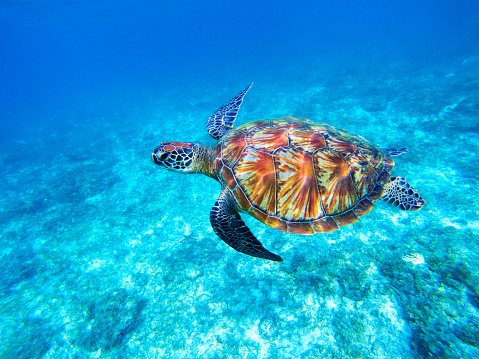turtle: (149, 78, 426, 264)
